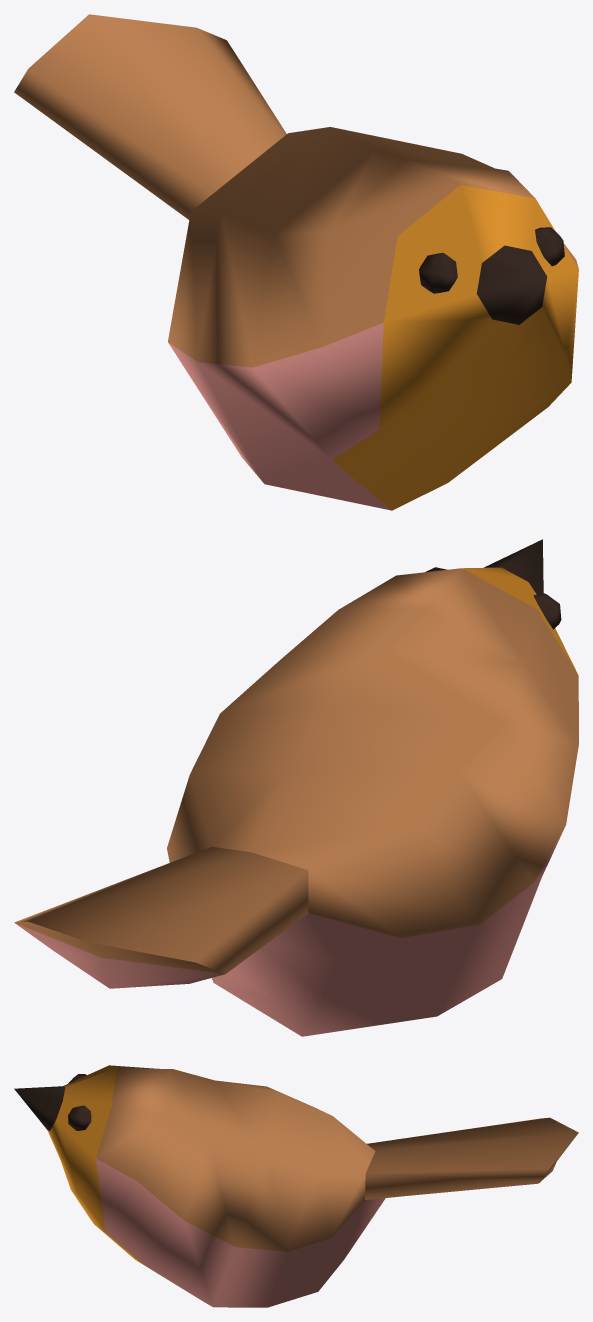
File: itch_assetquest_pond_bird_3.glb
3 views of the same model, one above another, from view 1: azimuth 30°, elevation 25°; view 2: azimuth 150°, elevation 25°; view 3: azimuth 270°, elevation 25° (orthographic). The views are drawn at different scales.
Visible parts, largest first — view 1: Bird_3; view 2: Bird_3; view 3: Bird_3.
Part boxes in pixels (x1,y1,x2,y2): Bird_3: (14, 14, 578, 510); Bird_3: (14, 539, 578, 1036); Bird_3: (14, 1065, 578, 1307).
Bounding box in the file's own units: 0.4128 × 0.4403 × 0.96.
